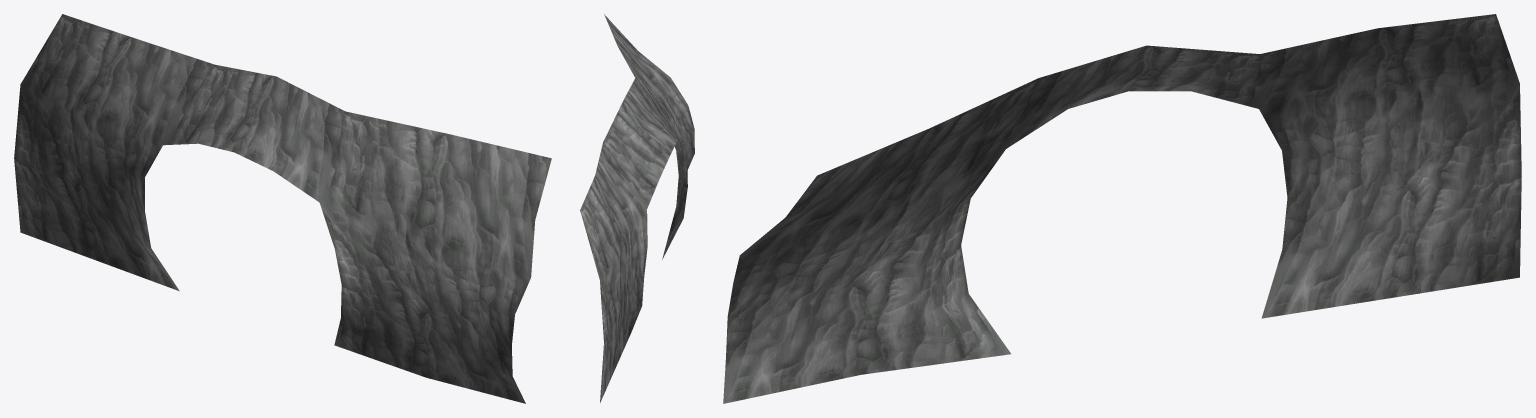
File: SWORDLIGHT20_PS-AREA04_23.fbx
3 views of the same model, side by side, from view 1: azimuth 30°, elevation 25°; view 2: azimuth 150°, elevation 25°; view 3: azimuth 270°, elevation 25° (orthographic). The views are drawn at different scales.
Visible parts, largest first — view 1: SWORDLIGHT20_PS-AREA04_23; view 2: SWORDLIGHT20_PS-AREA04_23; view 3: SWORDLIGHT20_PS-AREA04_23.
Boxes of the visible parts, x1,y1,x2,y2 form: SWORDLIGHT20_PS-AREA04_23: (14,14,551,403); SWORDLIGHT20_PS-AREA04_23: (580,14,694,402); SWORDLIGHT20_PS-AREA04_23: (723,14,1521,403).
Size of the model in its own units: 82194 by 68416 by 161362.
Materials: 1 (1 with a texture image).
